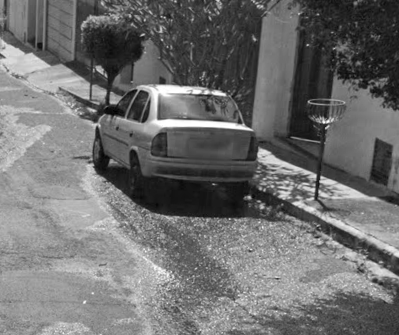car: (87, 69, 261, 205)
